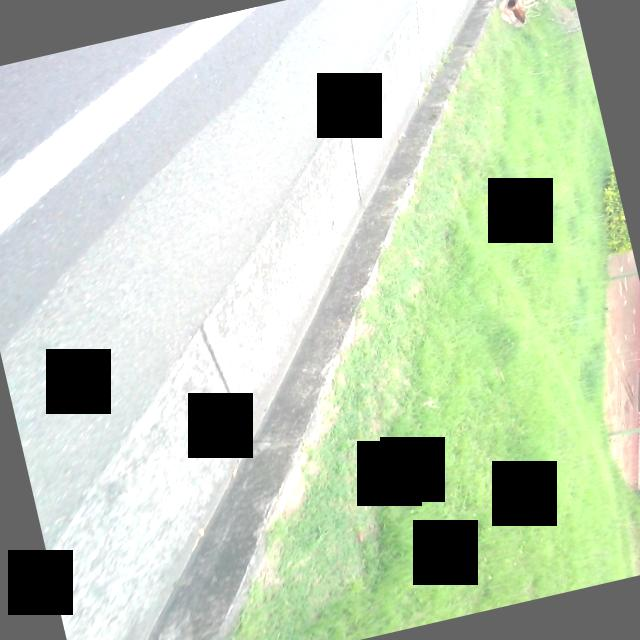DITCH: (0, 0, 640, 640), (0, 0, 579, 640)
